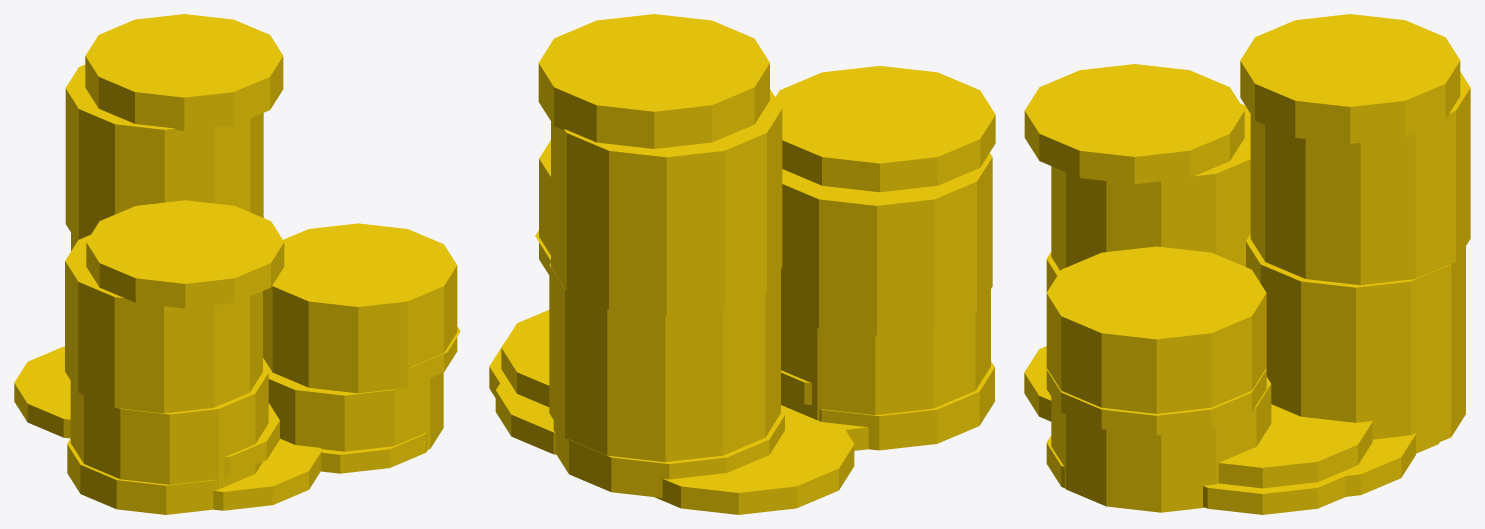
File: coins.glb
3 renders of one model, left to right at view 1: azimuth 30°, elevation 25°; view 2: azimuth 150°, elevation 25°; view 3: azimuth 270°, elevation 25°, orthographic. The views are drawn at different scales.
Visible parts, largest first — view 1: coins; view 2: coins; view 3: coins.
Part boxes in pixels (x1=…): coins: x1=14, y1=14, x2=460, y2=514; coins: x1=489, y1=14, x2=995, y2=514; coins: x1=1024, y1=14, x2=1470, y2=514.
Bounding box in the file's own units: 0.2997 × 0.2567 × 0.2839.
